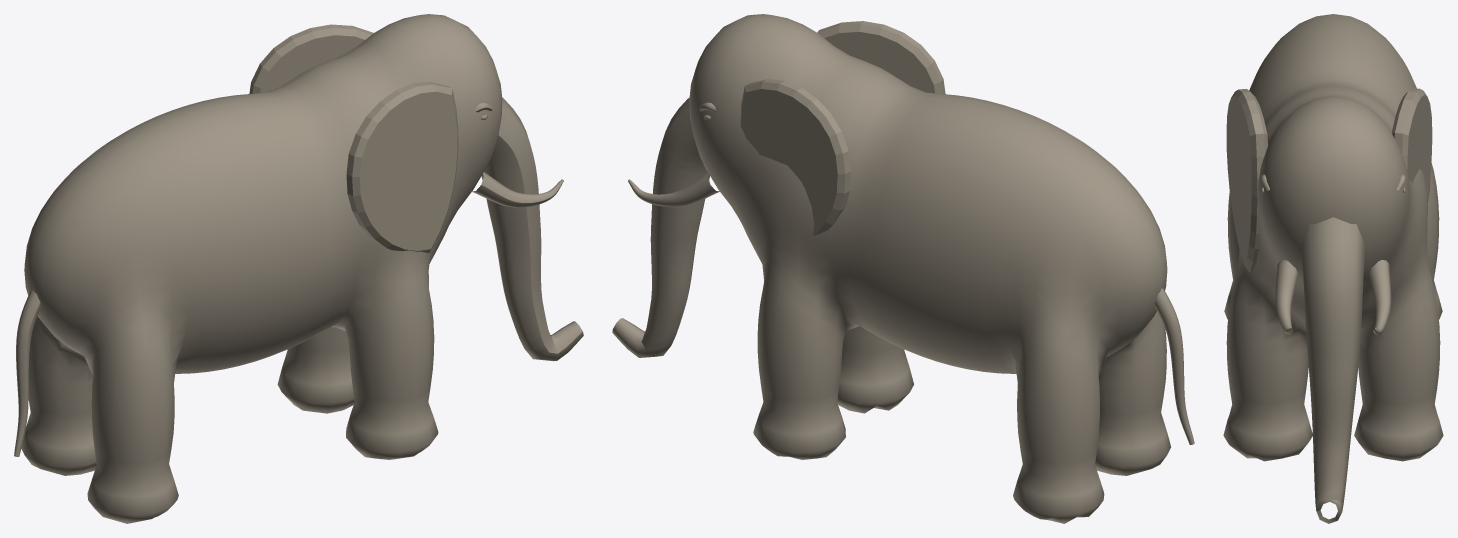
Rendered from elephant-study-low.glb.
The picture shows the model from 3 angles, left to right: view 1: azimuth 30°, elevation 25°; view 2: azimuth 150°, elevation 25°; view 3: azimuth 270°, elevation 25°; orthographic projection. The views are drawn at different scales.
Parts seen in each view (by area): view 1: Original three-dimensional stone elephant; view 2: Original three-dimensional stone elephant; view 3: Original three-dimensional stone elephant.
Boxes of the visible parts, x1,y1,x2,y2 form: Original three-dimensional stone elephant: (14, 14, 583, 523); Original three-dimensional stone elephant: (612, 14, 1194, 523); Original three-dimensional stone elephant: (1223, 14, 1443, 523).
Bounding box in the file's own units: 6.2 × 4 × 2.12.
